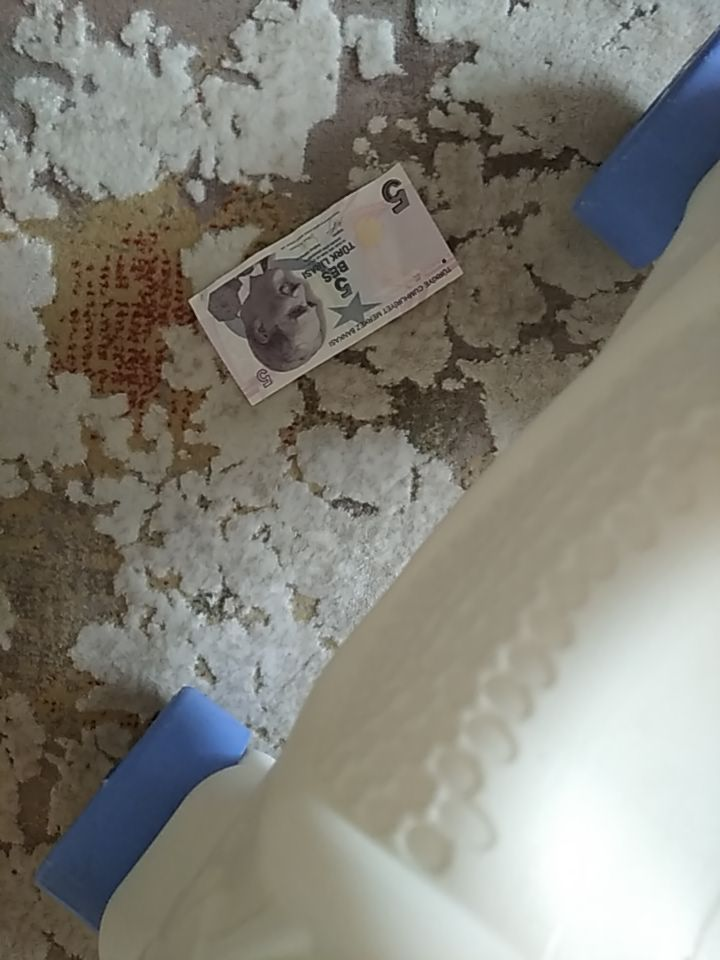5TL: (187, 162, 465, 410)
